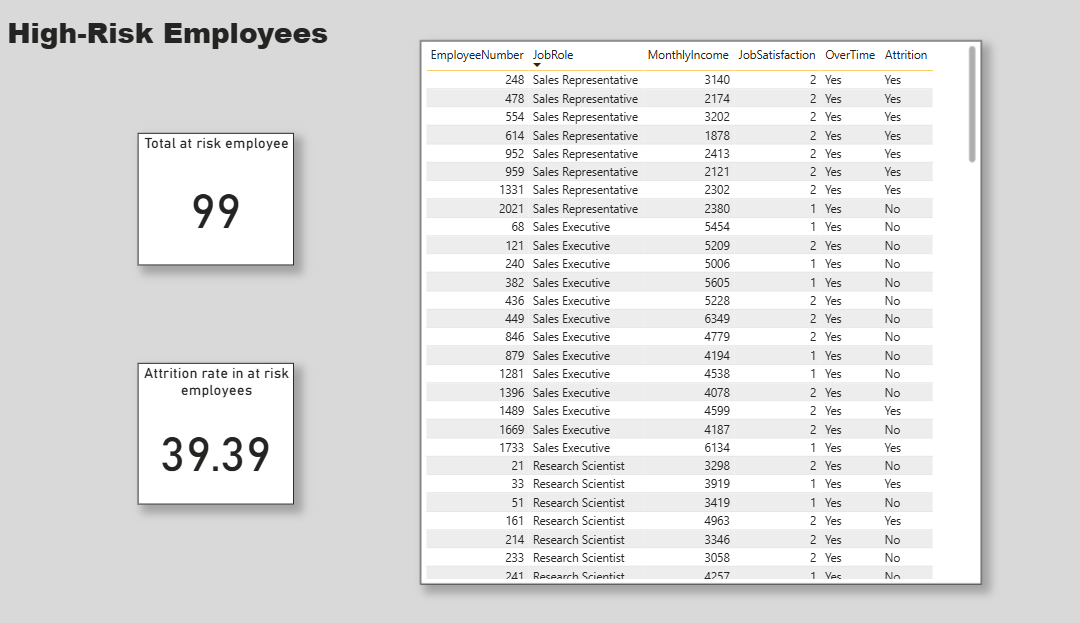

Layout of this report page (visuals, bound fields, positions):
{"tool":"powerbi","page":{"name":"At-Risk Employees","canvas":[1280,720],"ordinal":3},"visuals":[{"type":"tableEx","fields":{"Values":["hrdata.EmployeeNumber","hrdata.JobRole","hrdata.MonthlyIncome","hrdata.JobSatisfaction","hrdata.OverTime","hrdata.Attrition"]},"box":[487.1,48.6,641.4,621.4],"z":0},{"type":"card","title":"Total at risk employee","fields":{"Values":["hrdata.At Risk Count"]},"box":[164.3,154.3,178.6,151.4],"z":1},{"type":"card","title":"Attrition rate in at risk employees","fields":{"Values":["hrdata.At Risk Attrition Rate"]},"box":[164.3,417.1,178.6,161.4],"z":2},{"type":"textbox","box":[10,11.4,577.1,100],"z":3}]}

Visuals, with their boxes in screenshot pixels (x1, y1, x2, y2), scaled from the page's 1280x720 canvas onto the 1080x623 screenshot:
tableEx - hrdata.EmployeeNumber x hrdata.JobRole: bbox=[411, 42, 952, 580]
"Total at risk employee" card: bbox=[139, 134, 289, 265]
"Attrition rate in at risk employees" card: bbox=[139, 361, 289, 501]
textbox: bbox=[8, 10, 495, 96]
